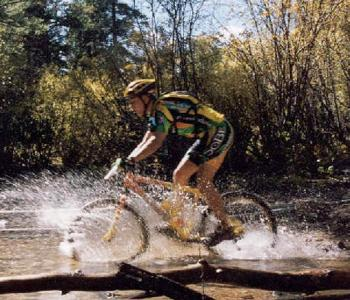person: (112, 78, 235, 247)
